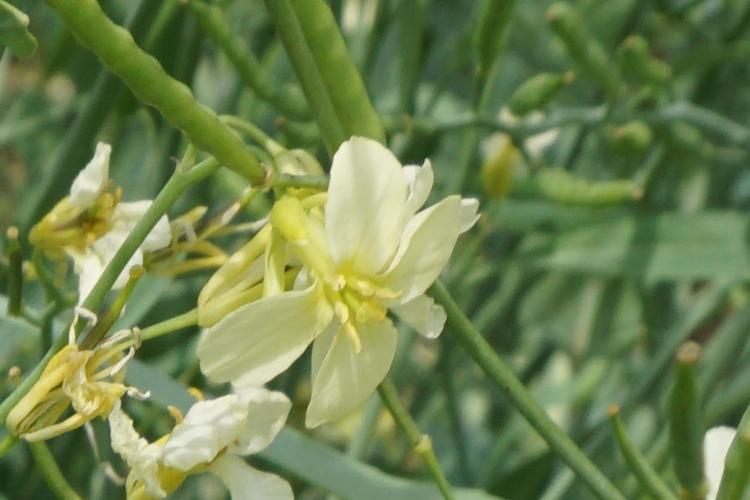white: (231, 141, 460, 418), (97, 371, 305, 486), (20, 165, 175, 283)
